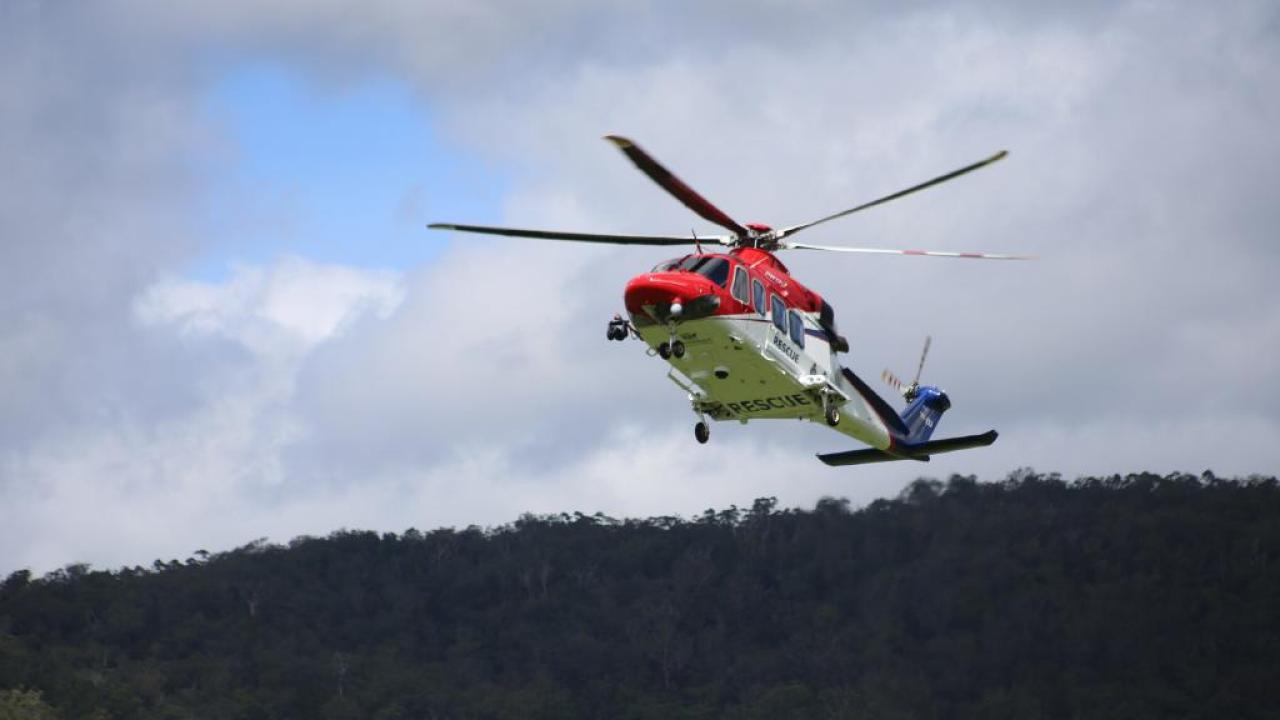Helicopter: (413, 122, 1037, 473)
